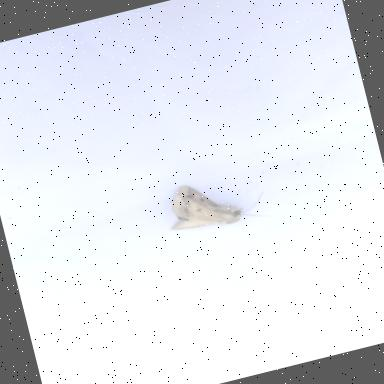abw: (160, 165, 273, 241)
